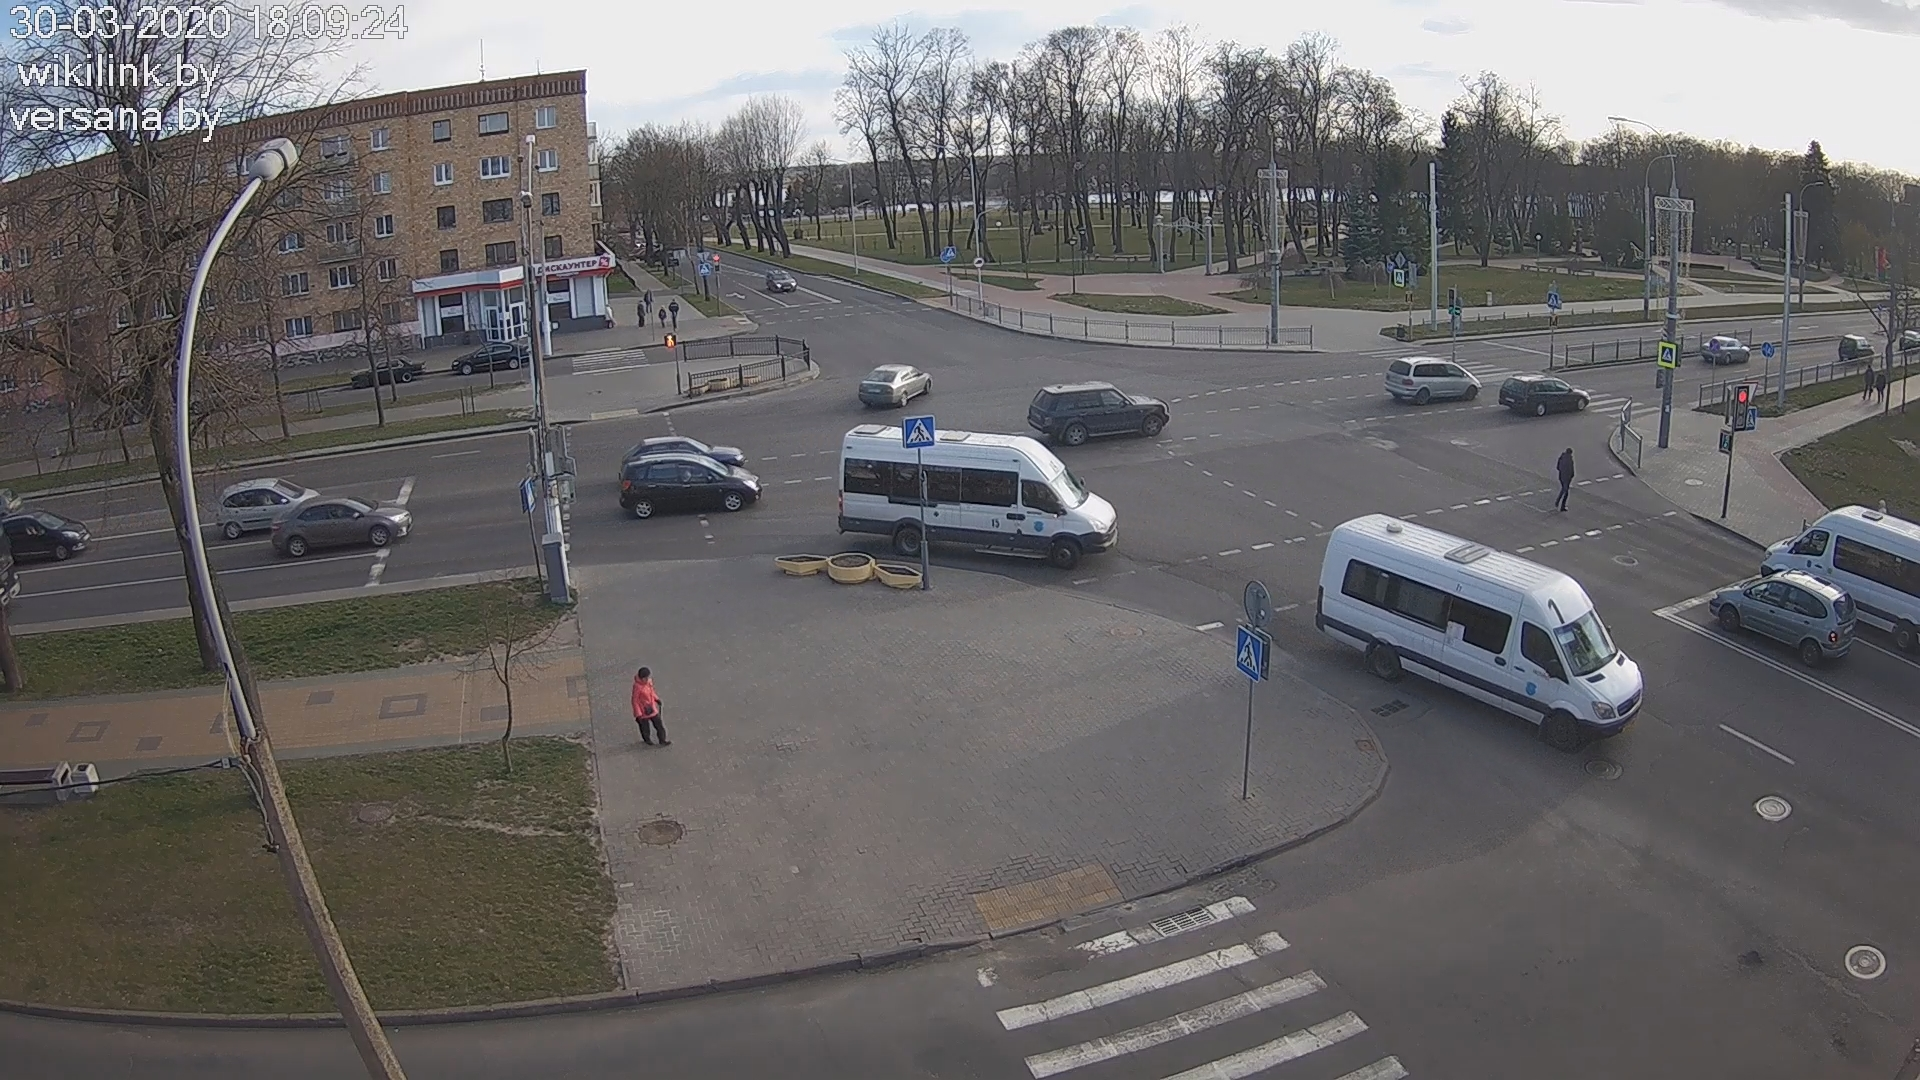car: (1315, 513, 1644, 752), (837, 423, 1118, 570), (1760, 504, 1920, 651), (1709, 568, 1855, 669), (618, 450, 764, 520), (1027, 378, 1170, 446), (272, 495, 413, 556), (216, 477, 323, 538), (1385, 356, 1484, 405), (1499, 373, 1592, 415), (622, 436, 746, 465), (858, 363, 934, 407), (451, 342, 531, 376), (351, 353, 426, 389), (1701, 336, 1751, 365), (766, 269, 796, 293)
